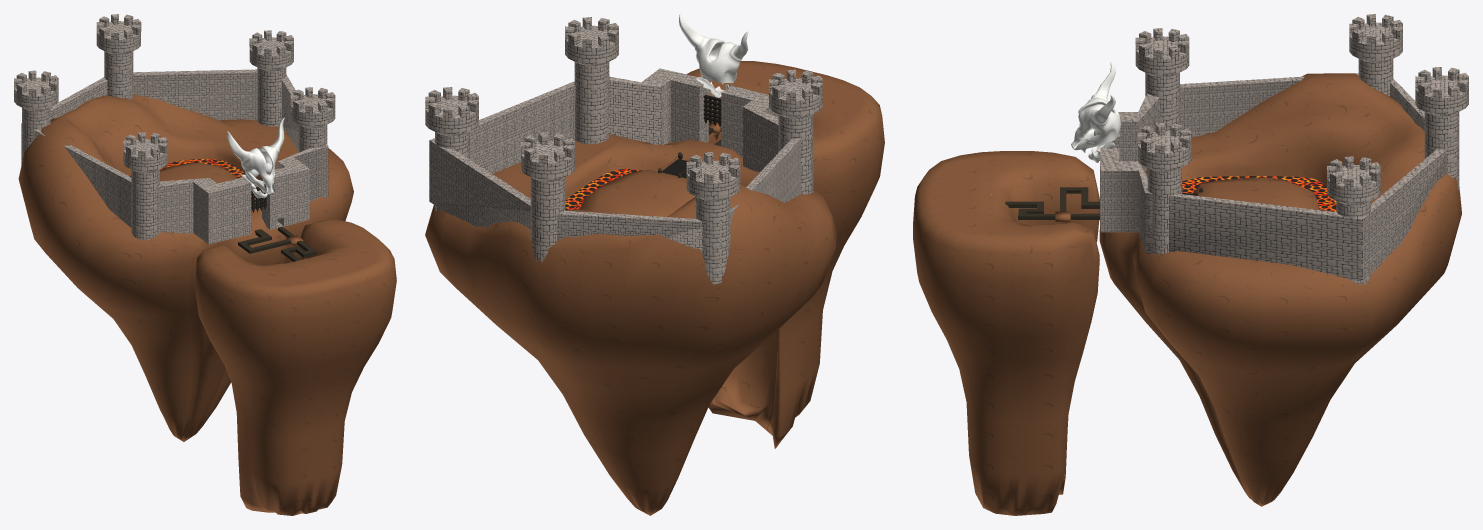
Rendered from MapaFinalBoss_V4.fbx.
3 renders of one model, left to right at view 1: azimuth 30°, elevation 25°; view 2: azimuth 150°, elevation 25°; view 3: azimuth 270°, elevation 25°, orthographic. The views are drawn at different scales.
Visible parts, largest first — view 1: Plane001, Box001, Cylinder011, Cylinder013, Cylinder014, Cylinder015, Cylinder012, Plane003, Box002, Plane004; view 2: Plane001, Box001, Cylinder012, Cylinder014, Cylinder015, Cylinder011, Cylinder013, Plane003, Plane004; view 3: Plane001, Box001, Cylinder012, Cylinder014, Cylinder011, Cylinder015, Cylinder013, Plane003, Box002, Plane004.
Part boxes in pixels (x1,y1,x2,y2): Plane001: (18,94,396,515); Box001: (21,69,328,244); Cylinder011: (123,132,167,240); Cylinder013: (249,30,293,126); Cylinder014: (96,14,141,99); Cylinder015: (14,70,58,162); Cylinder012: (290,87,335,152); Plane003: (227,117,284,198); Box002: (238,226,316,261); Plane004: (129,159,259,203); Plane001: (425,61,884,515); Box001: (429,68,800,283); Cylinder012: (565,17,618,144); Cylinder014: (521,132,574,262); Cylinder015: (686,152,740,284); Cylinder011: (769,69,822,194); Cylinder013: (425,87,478,211); Plane003: (679,14,748,97); Plane004: (565,168,686,210); Plane001: (913,73,1461,515); Box001: (1100,73,1446,280); Cylinder012: (1137,122,1191,254); Cylinder014: (1415,67,1468,191); Cylinder011: (1135,28,1189,131); Cylinder015: (1349,14,1402,95); Cylinder013: (1327,156,1380,284); Plane003: (1071,62,1120,162); Box002: (1005,187,1099,219); Plane004: (1182,176,1336,211).
Bounding box in the file's own units: 423 × 506 × 587.
Materials: 7 (7 with a texture image).
